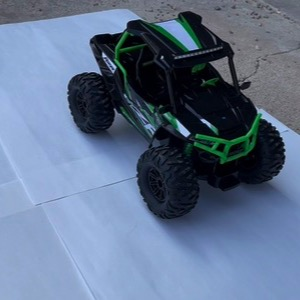polaris: (64, 10, 287, 221)
